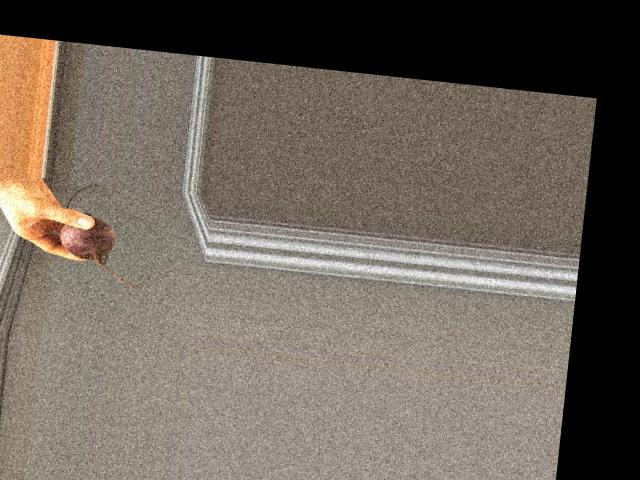beet: (56, 181, 154, 287)
